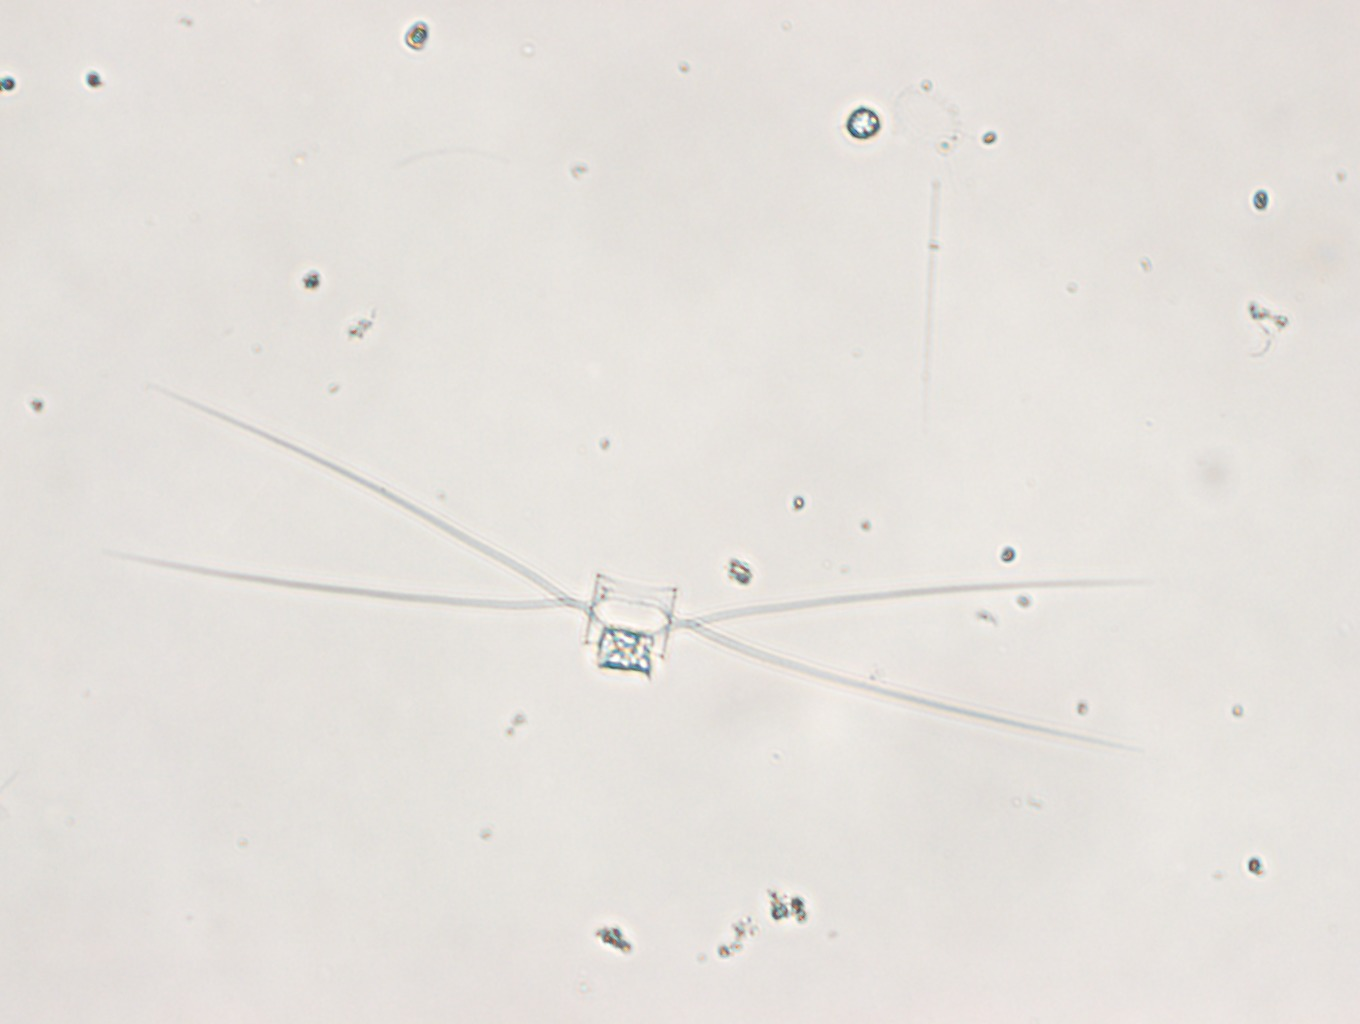chaetoceros: (134, 390, 1136, 757)
